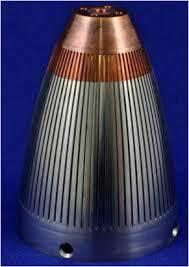thruster: (12, 50, 183, 263)
